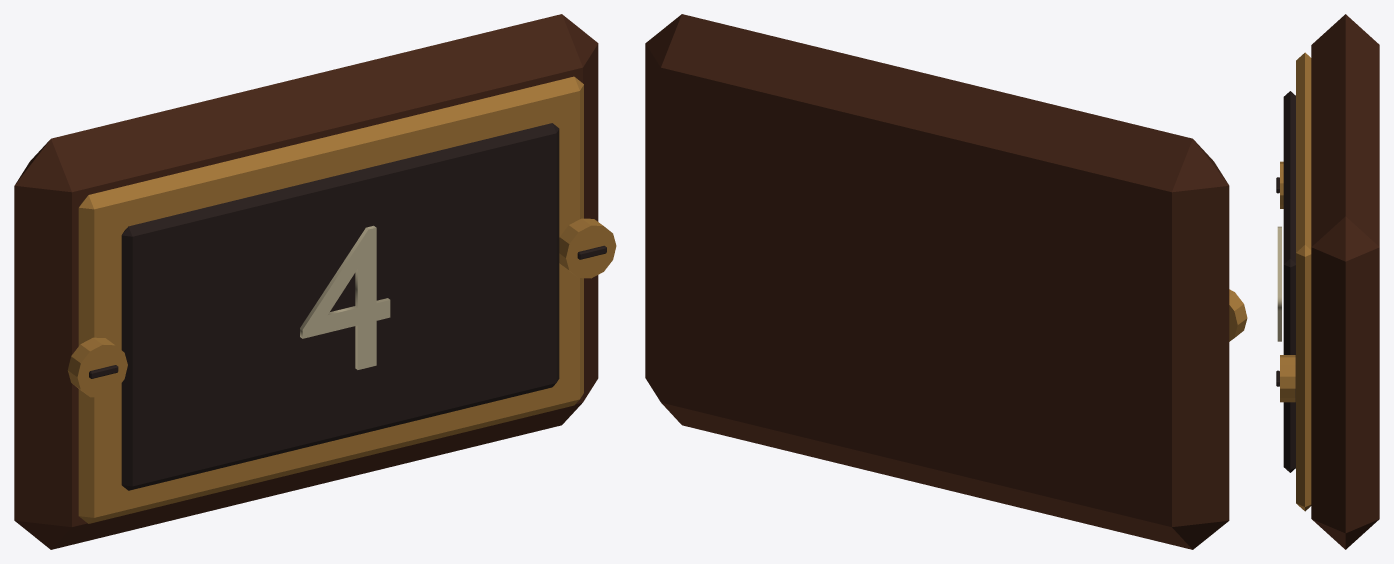
File: RoomPlaque_04.glb
3 renders of one model, left to right at view 1: azimuth 30°, elevation 25°; view 2: azimuth 150°, elevation 25°; view 3: azimuth 270°, elevation 25°, orthographic. The views are drawn at different scales.
Parts seen in each view (by area): view 1: DarkEnamel.003, OakPlaque.003, BrassInset.003, RoomNumber.003, BrassScrew.008, BrassScrew.009; view 2: OakPlaque.003; view 3: OakPlaque.003, BrassInset.003, DarkEnamel.003, BrassScrew.009, RoomNumber.003, BrassScrew.008.
Part boxes in pixels (x1,y1,x2,y2): DarkEnamel.003: [121, 123, 559, 490]; OakPlaque.003: [14, 14, 598, 549]; BrassInset.003: [78, 76, 583, 523]; RoomNumber.003: [300, 225, 390, 369]; BrassScrew.008: [67, 337, 127, 397]; BrassScrew.009: [559, 218, 616, 278]; OakPlaque.003: [645, 14, 1229, 549]; OakPlaque.003: [1311, 14, 1379, 549]; BrassInset.003: [1296, 52, 1311, 511]; DarkEnamel.003: [1283, 91, 1295, 472]; BrassScrew.009: [1280, 355, 1295, 402]; RoomNumber.003: [1277, 226, 1281, 341]; BrassScrew.008: [1280, 161, 1283, 208].
Bounding box in the file's own units: 1.04 × 0.7 × 0.197.
